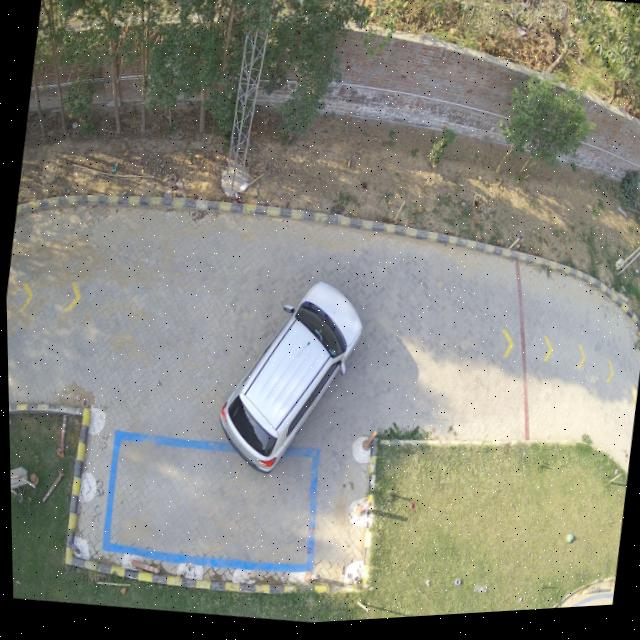car: (217, 283, 362, 479)
